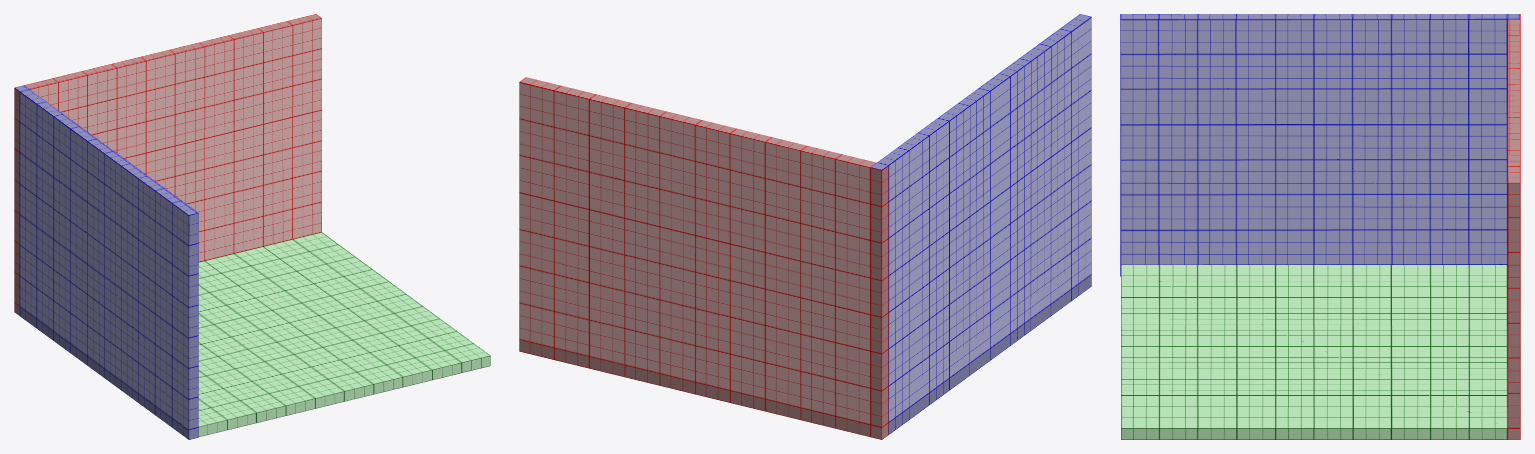
Rendered from combined-cell.fbx.
The picture shows the model from 3 angles, left to right: view 1: azimuth 30°, elevation 25°; view 2: azimuth 150°, elevation 25°; view 3: azimuth 270°, elevation 25°; orthographic projection. The views are drawn at different scales.
Parts seen in each view (by area): view 1: Cube, Cube.001, Cube.002; view 2: Cube, Cube.001; view 3: Cube.001, Cube.002, Cube.
Part boxes in pixels (left/top/right/bottom): Cube: left=14, top=14, right=321, bottom=315; Cube.001: left=15, top=85, right=198, bottom=439; Cube.002: left=198, top=232, right=490, bottom=436; Cube: left=519, top=77, right=888, bottom=439; Cube.001: left=870, top=14, right=1091, bottom=434; Cube.001: left=1120, top=14, right=1519, bottom=276; Cube.002: left=1121, top=265, right=1507, bottom=439; Cube: left=1507, top=14, right=1520, bottom=439.
Bounding box in the file's own units: 946 × 945 × 671.
